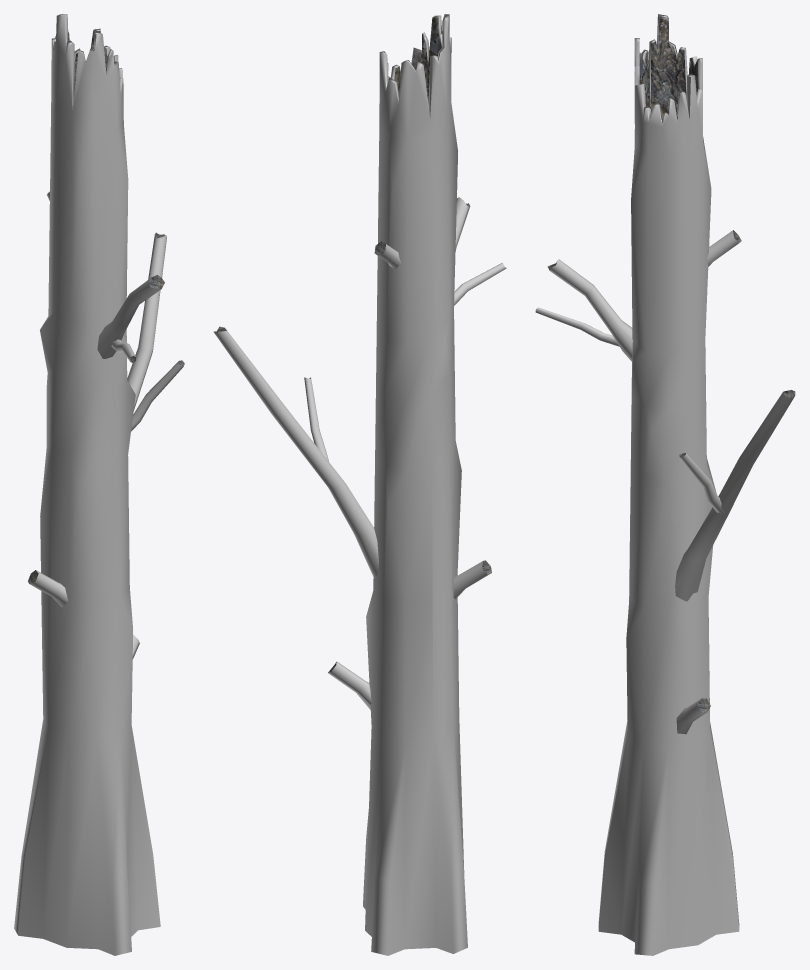
Rendered from Trunk3.fbx.
3 renders of one model, left to right at view 1: azimuth 30°, elevation 25°; view 2: azimuth 150°, elevation 25°; view 3: azimuth 270°, elevation 25°, orthographic. The views are drawn at different scales.
Parts seen in each view (by area): view 1: polySurface6; view 2: polySurface6; view 3: polySurface6.
Part boxes in pixels (<box>): polySurface6: <box>14,14,184,955</box>; polySurface6: <box>213,14,506,955</box>; polySurface6: <box>535,14,795,955</box>.
Bounding box in the file's own units: 2.43 × 10.31 × 2.7.
